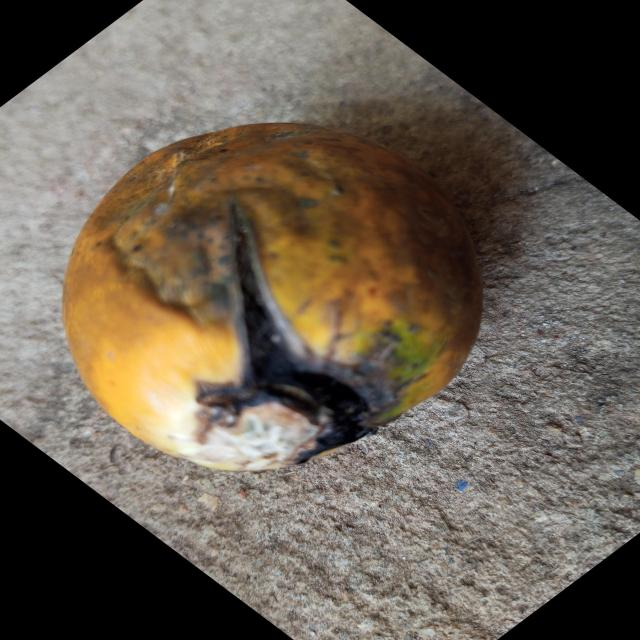damaged: (60, 123, 484, 475)
